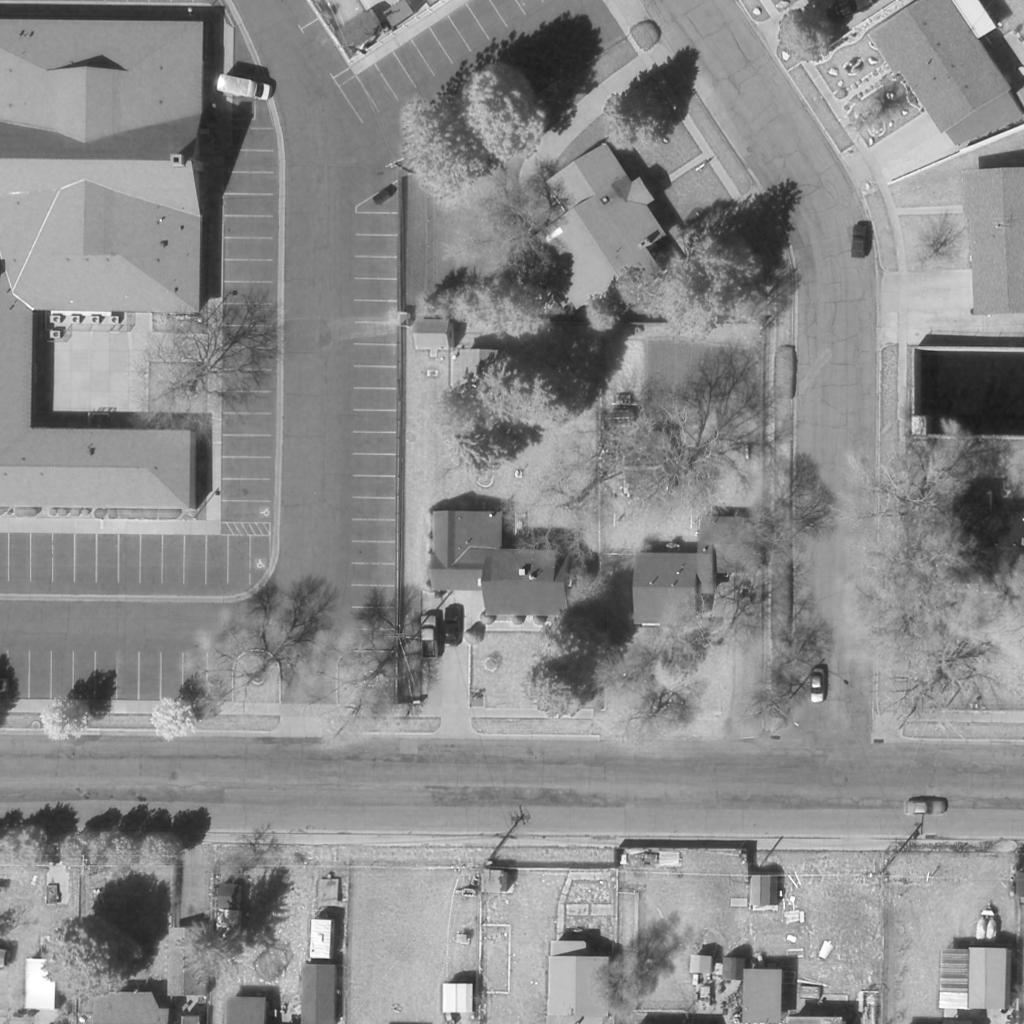vehicle: (218, 73, 274, 103), (310, 919, 336, 961), (421, 617, 441, 659), (849, 225, 873, 259), (905, 798, 949, 816), (809, 668, 827, 704), (445, 609, 463, 643), (373, 186, 397, 206), (986, 918, 1000, 942), (976, 917, 988, 941)
